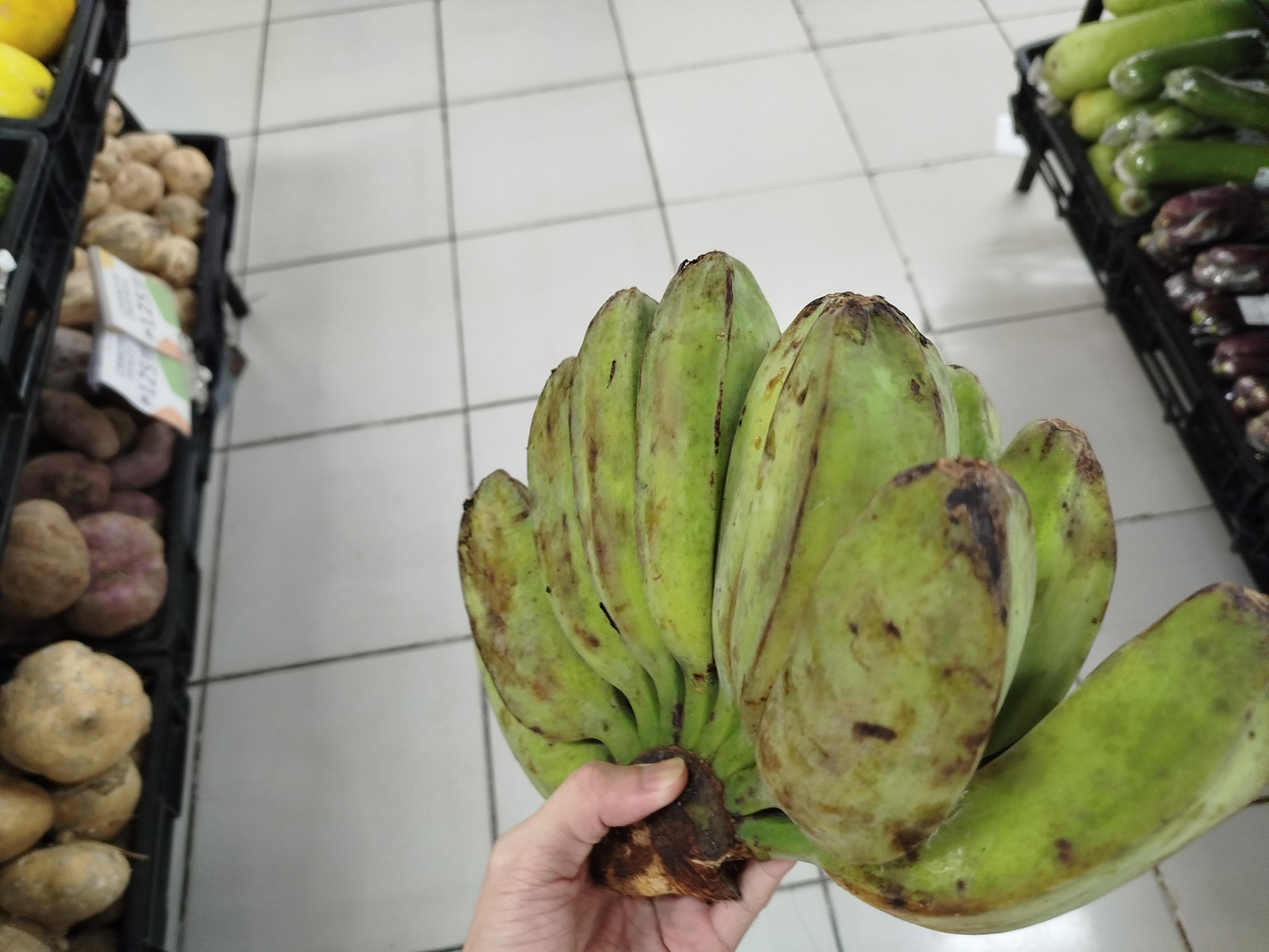underripe: (458, 253, 1269, 934)
